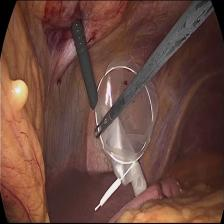Grasper: (93, 109, 114, 140)
Specimen Bag: (93, 53, 165, 215)
